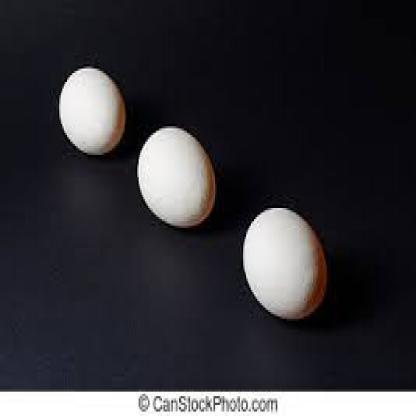egg: (242, 204, 326, 318), (138, 124, 216, 229), (58, 66, 126, 156)
